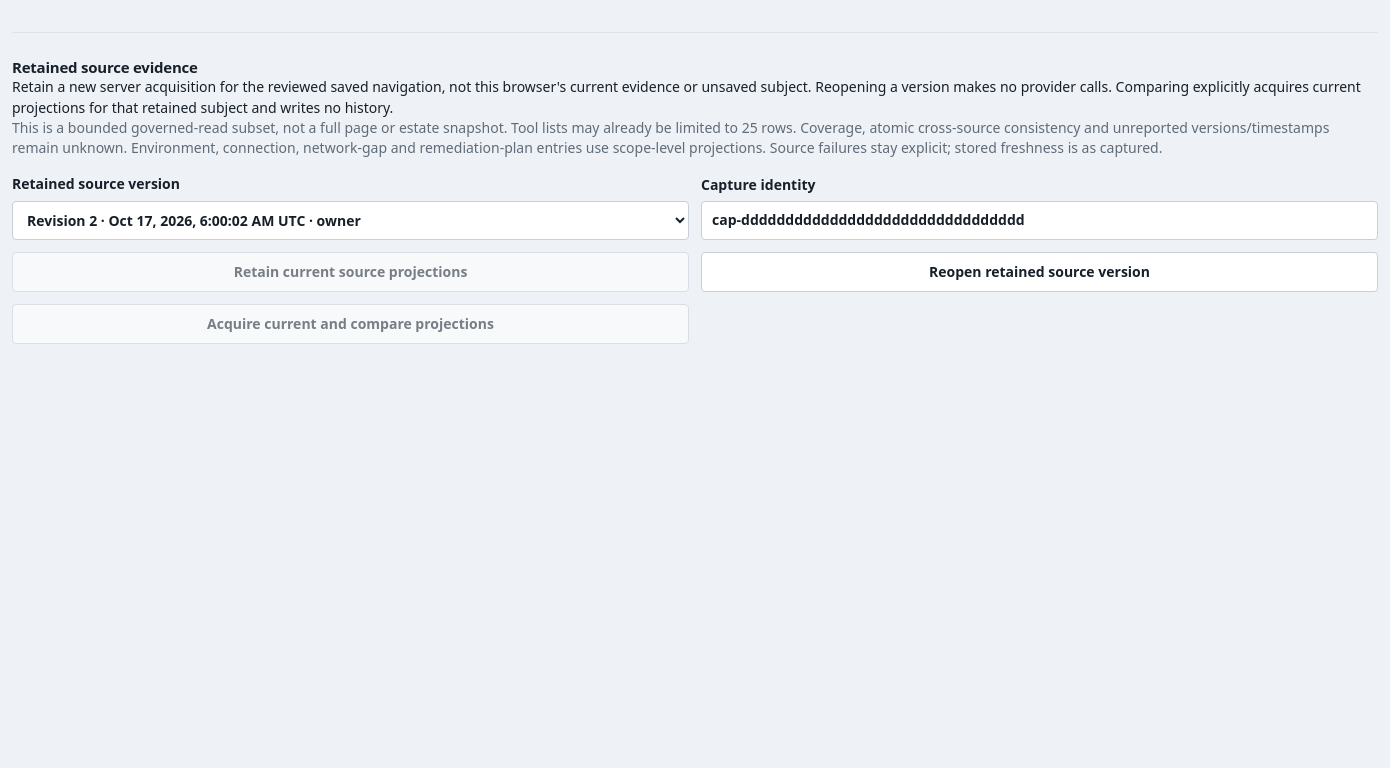
Test: retained investigation source evidence › labels failed-source comparison as unknown, not no change or no findings
Click the button "Reopen retained source version". click: point(1040, 272)
box: [701, 252, 1378, 292]
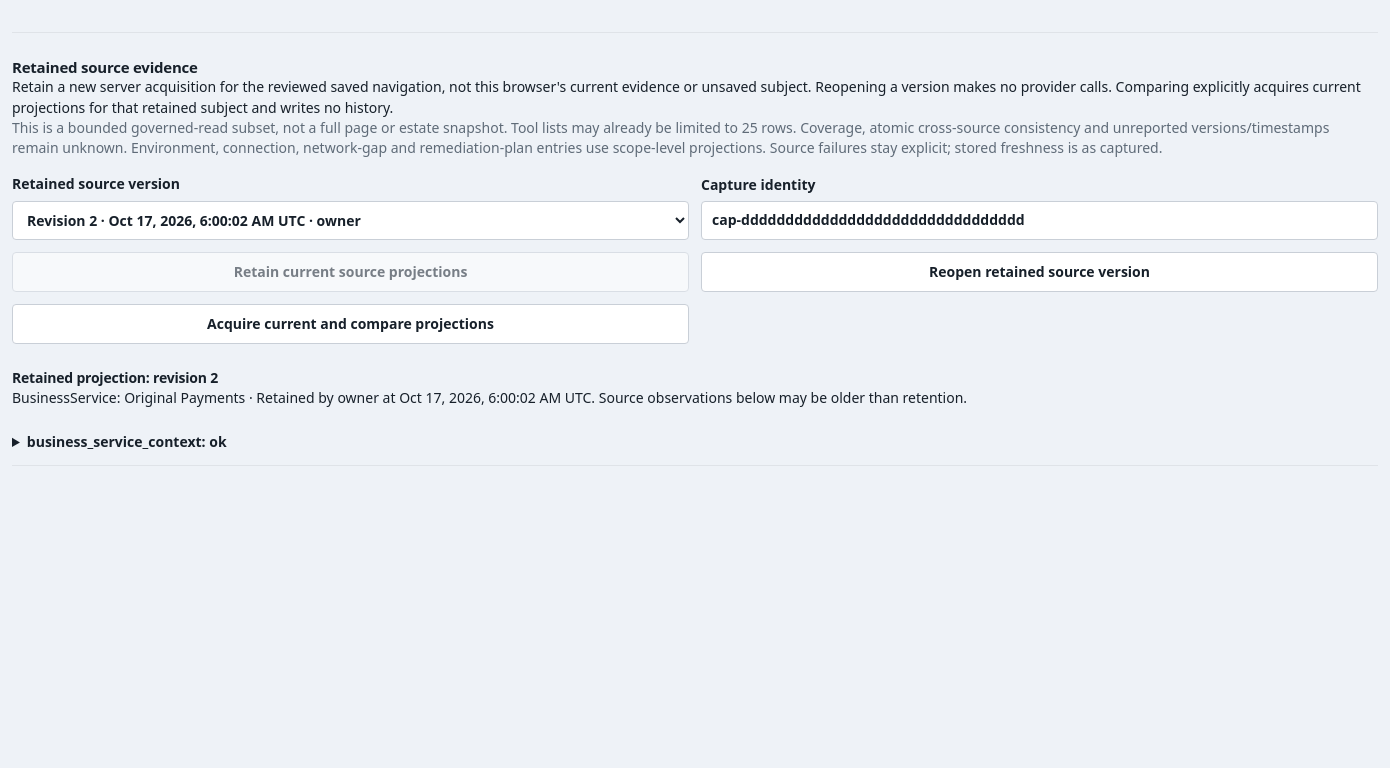
expect the heading "Retained projection: revision 2" is shown: met, box [12, 368, 218, 387]
Click the button "Acquire current and compare projections". click: point(350, 324)
box: [12, 304, 689, 344]
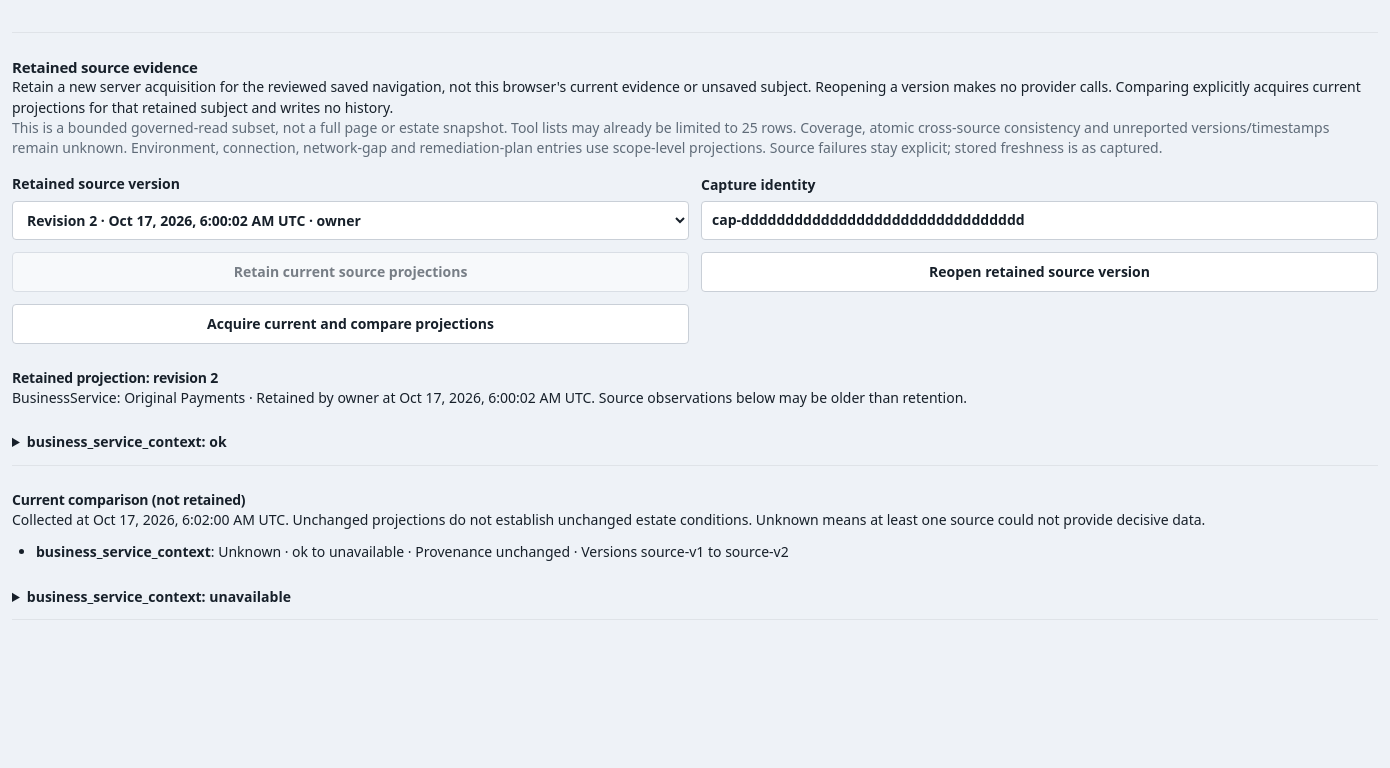
expect the heading "Current comparison (not retained)" is shown: met, box [12, 490, 245, 509]
expect the list item "Unknown · ok to unavailable" is shown: met, box [36, 542, 789, 561]
Click the heading "business_service_context: unavailable". click: point(159, 596)
box: [27, 586, 291, 606]
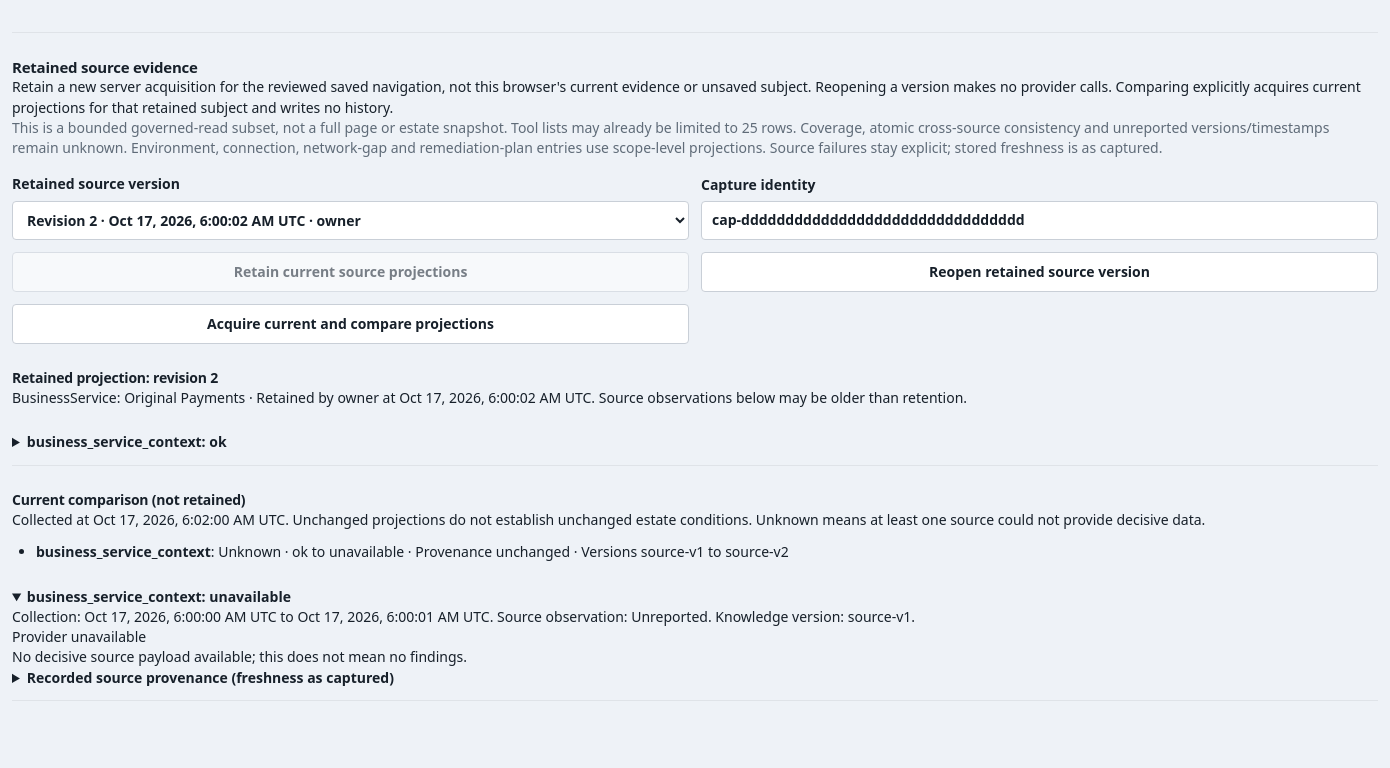
expect the text "does not mean no findings" is shown: met, box [12, 647, 467, 666]
